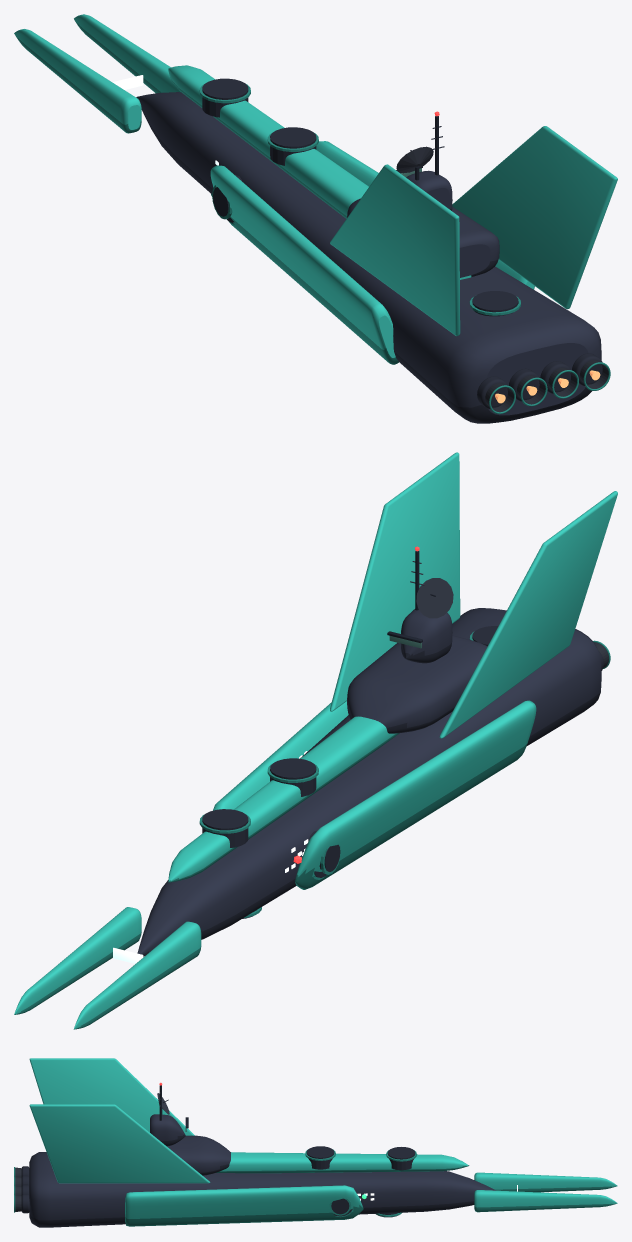
File: harbinger.glb
The picture shows the model from 3 angles, top to bottom: view 1: azimuth 30°, elevation 25°; view 2: azimuth 150°, elevation 25°; view 3: azimuth 270°, elevation 25°; orthographic projection. The views are drawn at different scales.
Visible parts, largest first — view 1: harbinger_mesh, radar_mesh; view 2: harbinger_mesh, radar_mesh; view 3: harbinger_mesh.
Part boxes in pixels (x1,y1,x2,y2): harbinger_mesh: (14, 14, 617, 423); radar_mesh: (396, 146, 433, 180); harbinger_mesh: (14, 452, 617, 1029); radar_mesh: (416, 578, 453, 618); harbinger_mesh: (14, 1058, 617, 1227).
Bounding box in the file's own units: 9.87 × 13.29 × 53.
